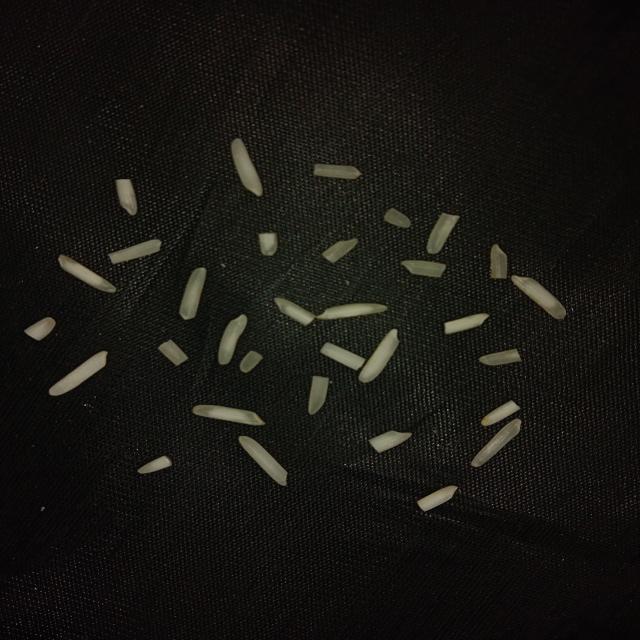Broken: (180, 267, 208, 320), (428, 214, 460, 255), (108, 240, 161, 264), (321, 343, 366, 371), (273, 298, 315, 327), (416, 485, 459, 512), (369, 430, 412, 454), (481, 402, 522, 427), (443, 314, 489, 334), (114, 178, 138, 216), (323, 239, 359, 264), (314, 163, 364, 180), (402, 262, 447, 280), (308, 376, 329, 414), (159, 340, 189, 366), (24, 317, 56, 340), (480, 350, 522, 366), (138, 455, 172, 474), (491, 244, 508, 279), (383, 208, 411, 228), (239, 352, 263, 372), (260, 232, 280, 255)
Full: (48, 351, 106, 395), (469, 419, 521, 468), (511, 275, 566, 320), (240, 436, 289, 486), (57, 255, 116, 293), (359, 328, 399, 382), (231, 138, 263, 197), (218, 315, 248, 365), (193, 405, 265, 425), (317, 304, 389, 320)
